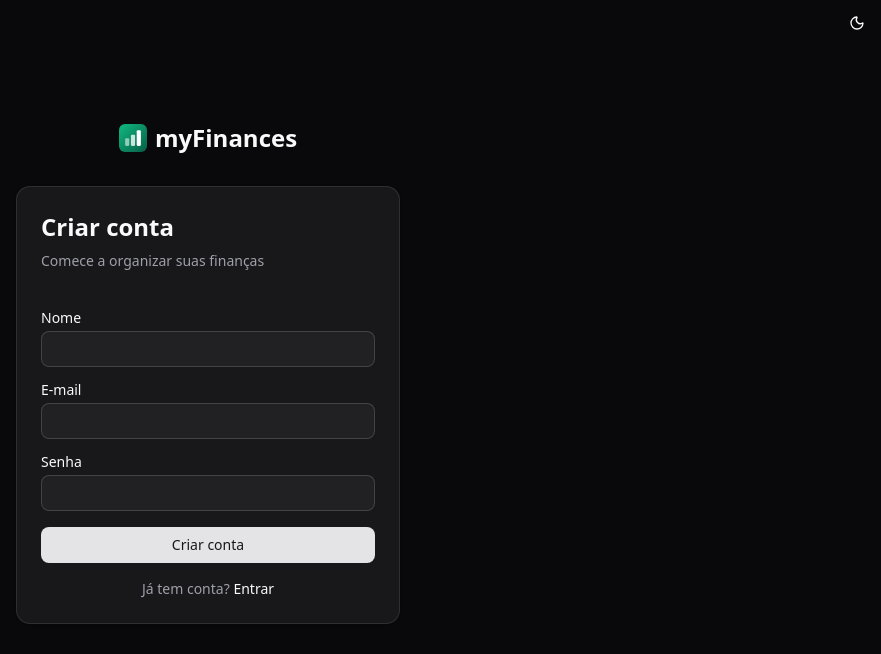
Test: Register › rejects a password shorter than 8 characters
Type "Ana" into the field labelled "Nome" at (208, 349), box x1=41 y1=331 x2=375 y2=367
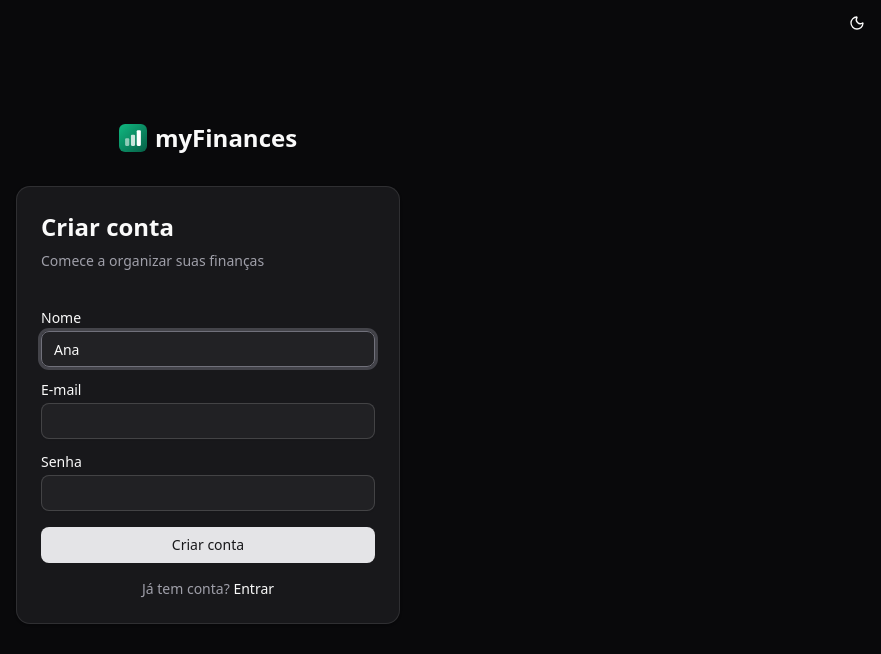
Type "ana@exemplo.com" into the field labelled "E-mail" at (208, 421), box x1=41 y1=403 x2=375 y2=439
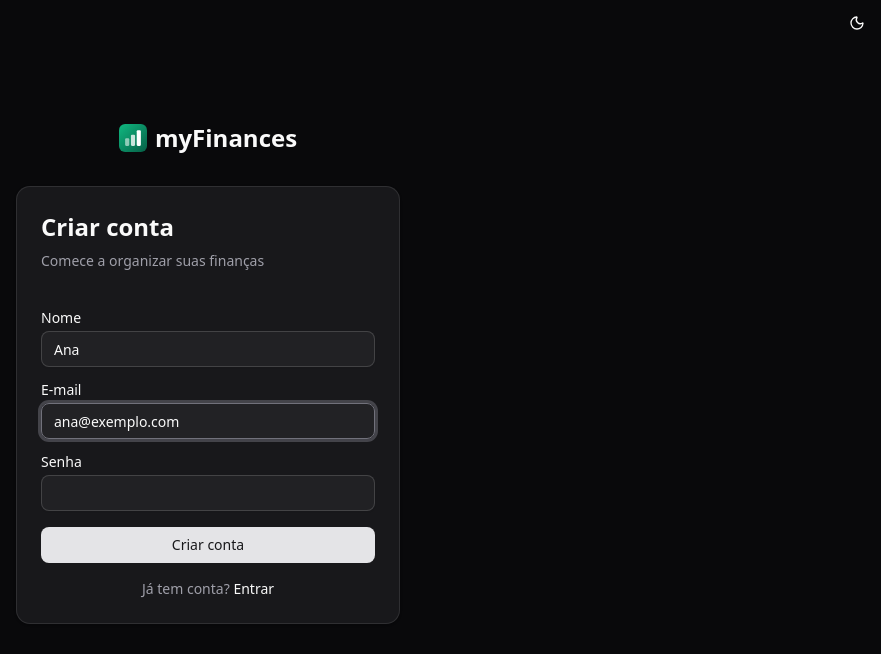
Type "1234567" into the password field labelled "Senha" at (208, 493), box x1=41 y1=475 x2=375 y2=511
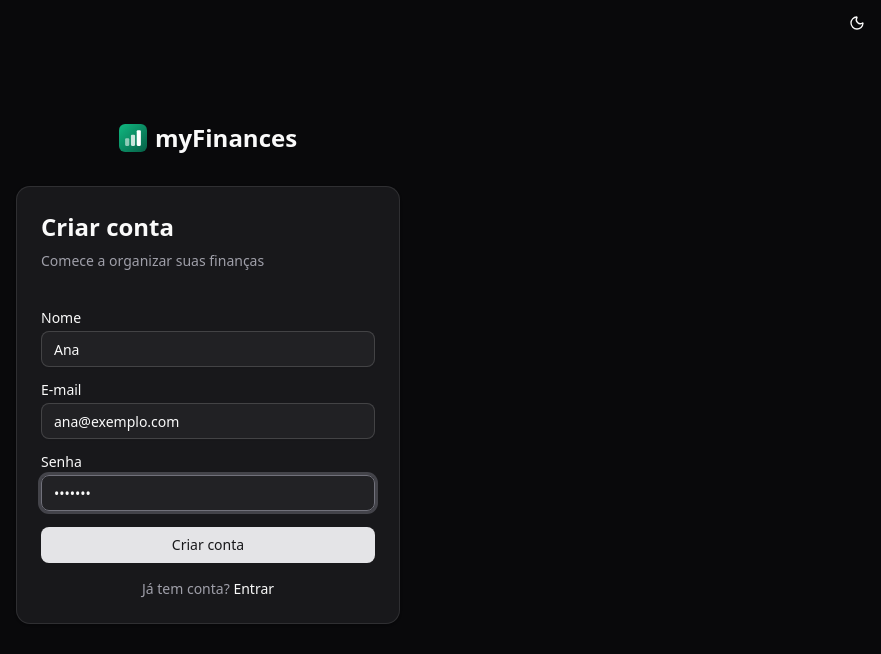
Click the button "Criar conta" at (208, 545), box x1=41 y1=527 x2=375 y2=563
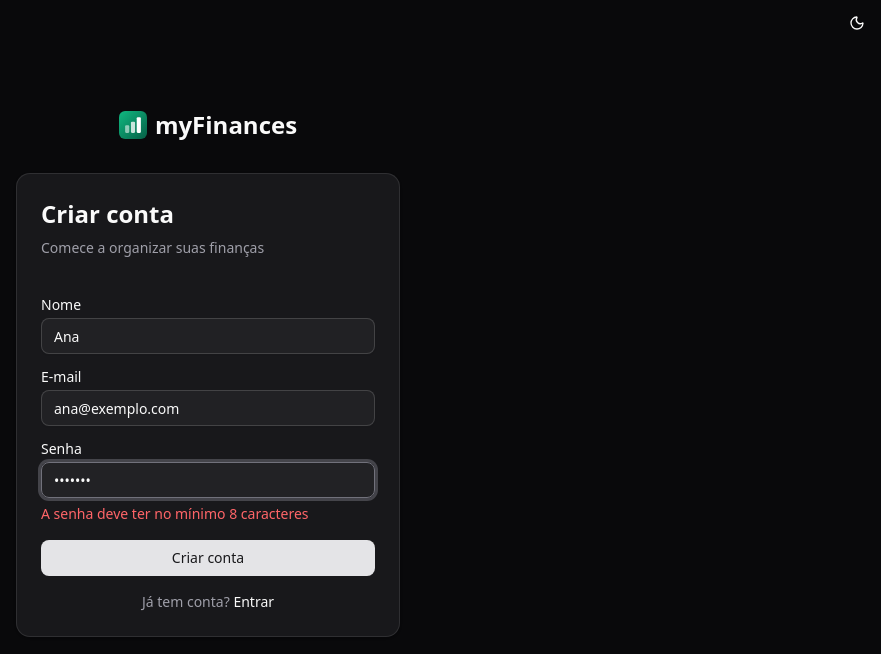
Expected: the text "A senha deve ter no mínimo 8 caracteres" is shown, x1=41 y1=504 x2=308 y2=523
